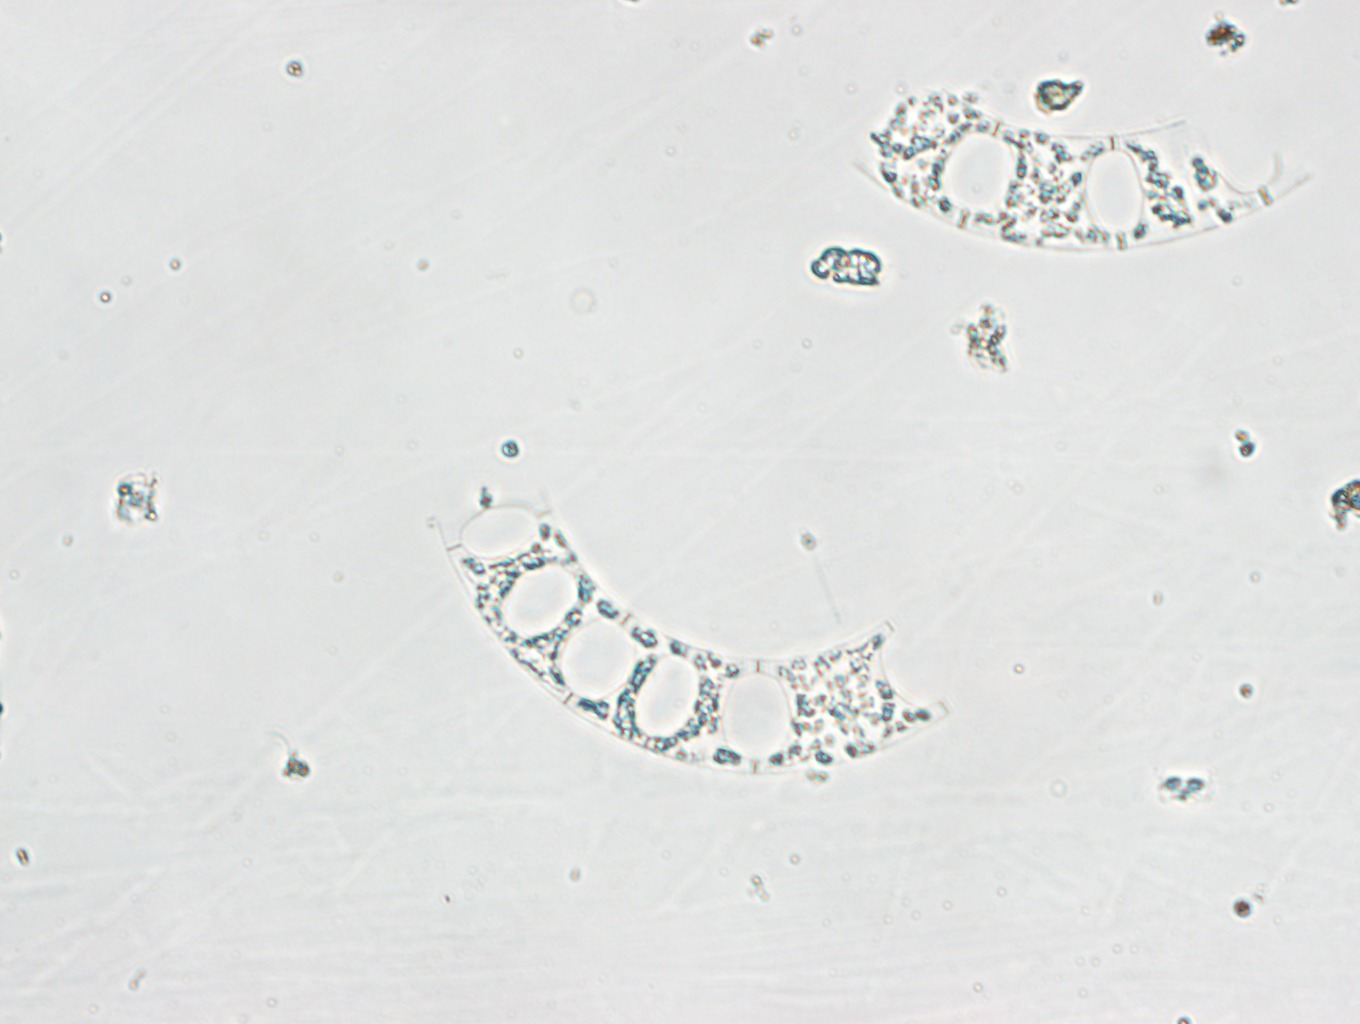eucampia: (438, 489, 947, 778), (853, 87, 1325, 251)
